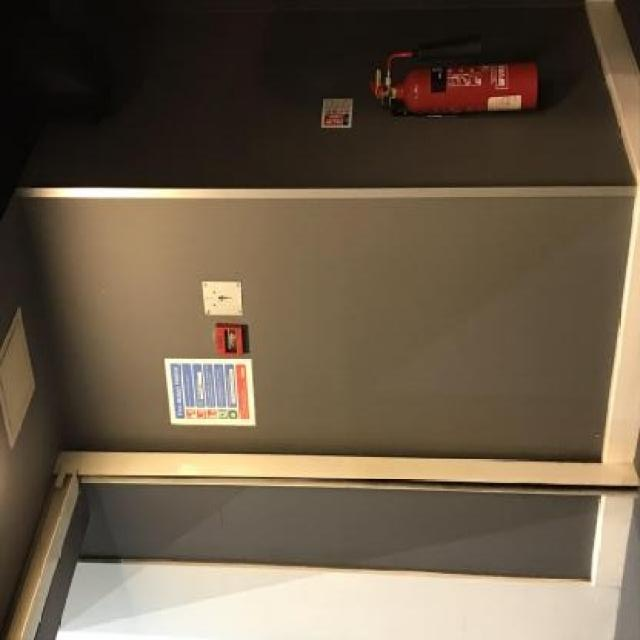fire extinguisher: (365, 43, 538, 114)
